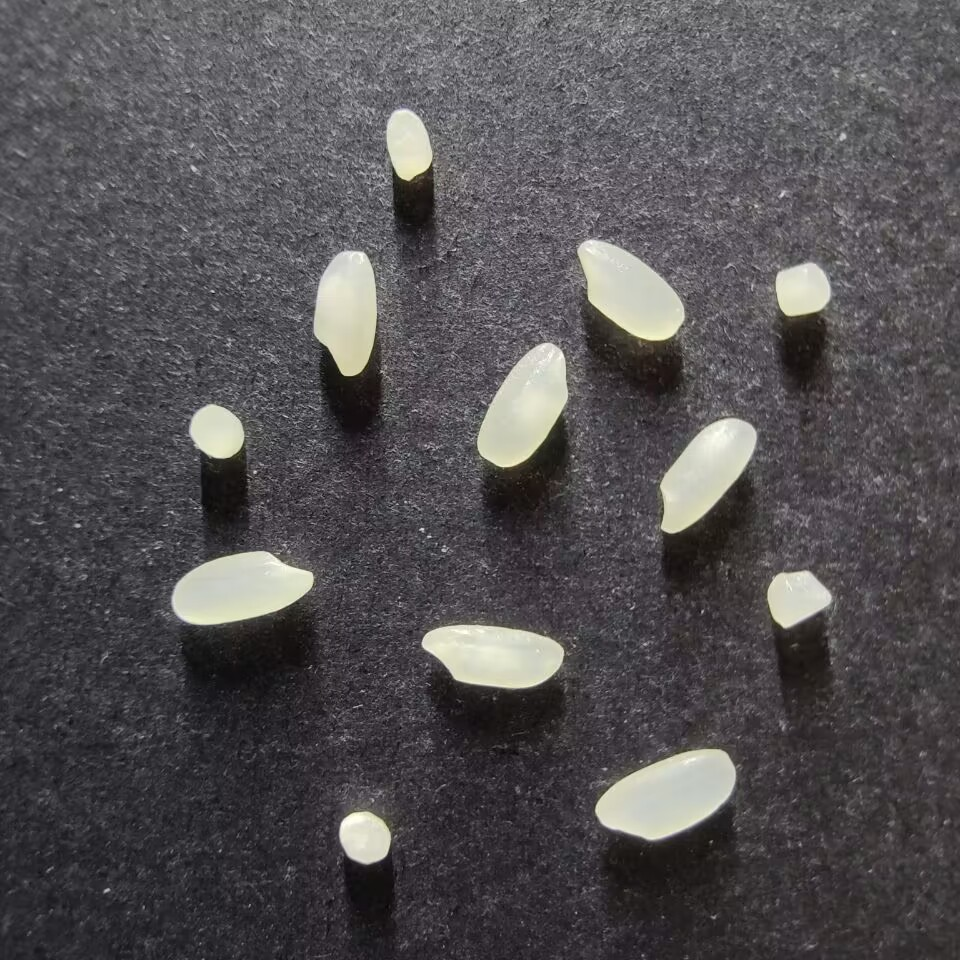broken: (766, 569, 832, 629), (385, 109, 433, 181), (188, 403, 244, 458), (774, 262, 830, 316), (339, 811, 391, 863)
rice: (594, 748, 736, 840), (658, 417, 758, 534), (476, 342, 568, 468), (576, 239, 685, 341), (171, 550, 313, 625), (420, 624, 563, 689), (312, 249, 377, 377)
